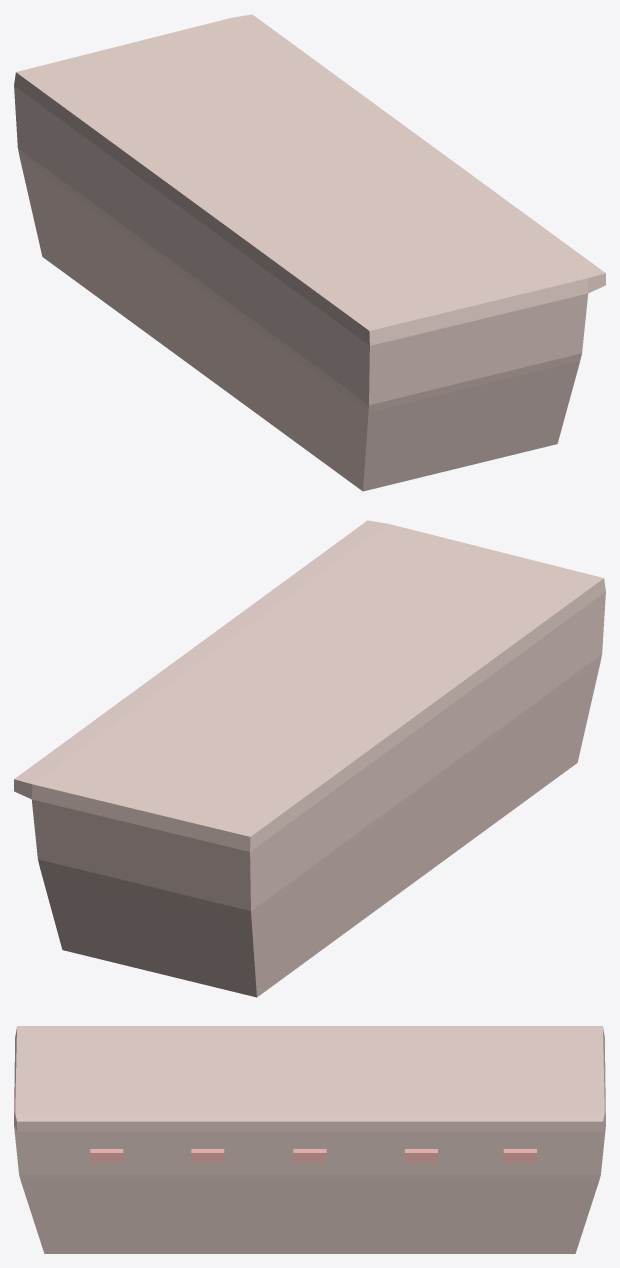
The model's file is Counter.gltf.
3 views of the same model, one above another, from view 1: azimuth 30°, elevation 25°; view 2: azimuth 150°, elevation 25°; view 3: azimuth 270°, elevation 25° (orthographic). The views are drawn at different scales.
Visible parts, largest first — view 1: Counter; view 2: Counter; view 3: Counter.
Part boxes in pixels (x1=…): Counter: x1=14, y1=14, x2=605, y2=491; Counter: x1=14, y1=520, x2=605, y2=997; Counter: x1=14, y1=1026, x2=605, y2=1253.
Size of the model in its own units: 6.95 by 4.92 by 18.12.
